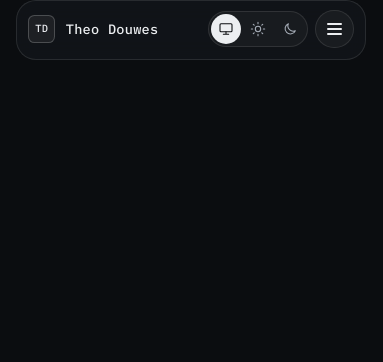
Test case: SiteHeader › toggles mobile menu open and closed
Click the button named "Open menu" at (335, 29), box [315, 10, 354, 48]
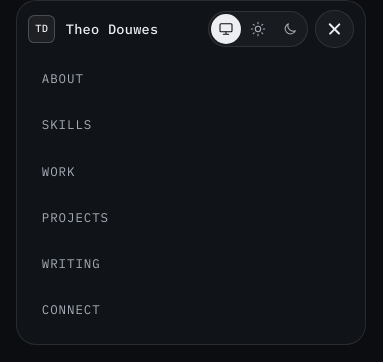
Expected: the button named "Close menu" is shown
Expected: the button named "Close menu" is expanded
Expected: the navigation bar named "Primary" is shown, [42, 70, 109, 317]
Click the button named "Close menu" at (335, 29), box [315, 10, 354, 48]
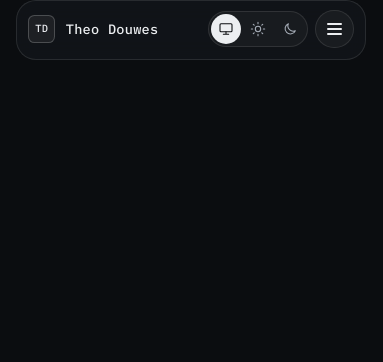
Expected: the button named "Open menu" is collapsed, [315, 10, 354, 48]
